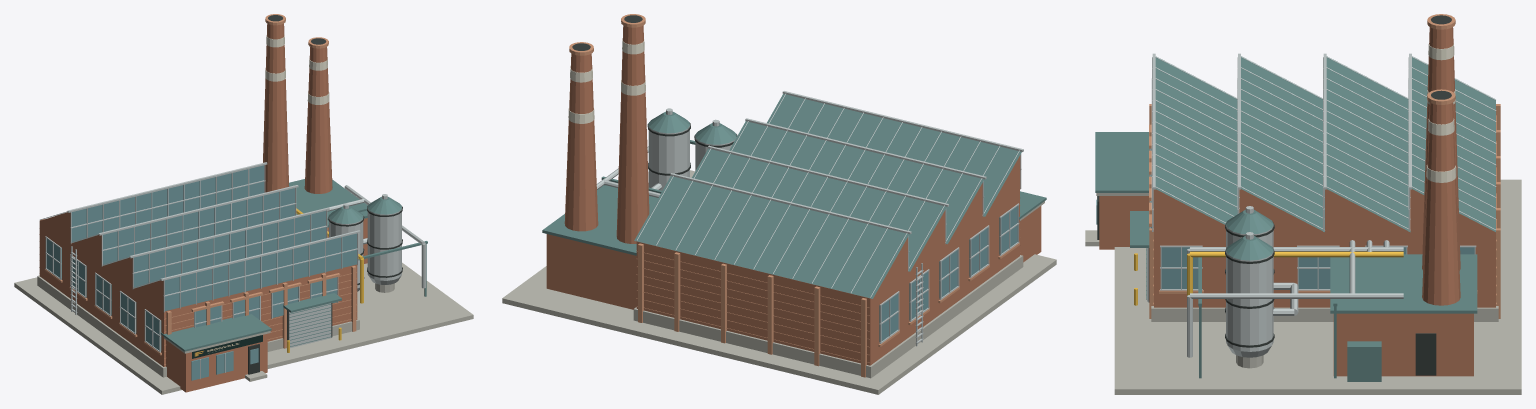
The model's file is factory-01.glb.
3 views of the same model, side by side, from view 1: azimuth 30°, elevation 25°; view 2: azimuth 150°, elevation 25°; view 3: azimuth 270°, elevation 25° (orthographic). The views are drawn at different scales.
Visible parts, largest first — view 1: Weathered concrete, Ironvale Works sign; view 2: Weathered concrete; view 3: Weathered concrete.
Boxes of the visible parts, left/top/right/bottom form: Weathered concrete: left=14, top=14, right=473, bottom=394; Ironvale Works sign: left=192, top=335, right=262, bottom=358; Weathered concrete: left=502, top=14, right=1056, bottom=394; Weathered concrete: left=1085, top=14, right=1521, bottom=394.
Size of the model in its own units: 29 by 20.75 by 25.53.
2 materials, 2 textured.
